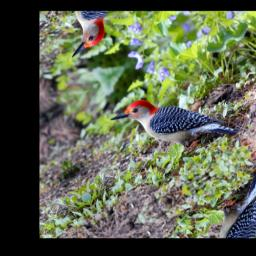Woodpecker: (109, 60, 241, 188)
